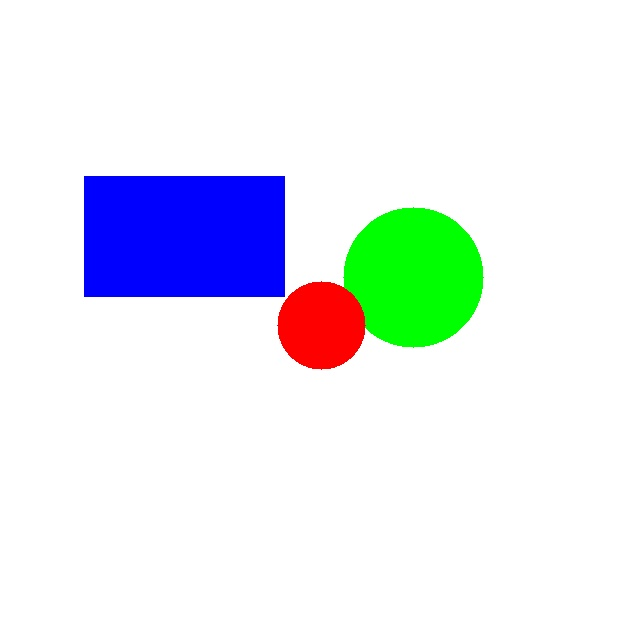cartao: (84, 176, 284, 296)
rosca_externa: (343, 207, 483, 347)
rosca_interna: (277, 281, 365, 369)
